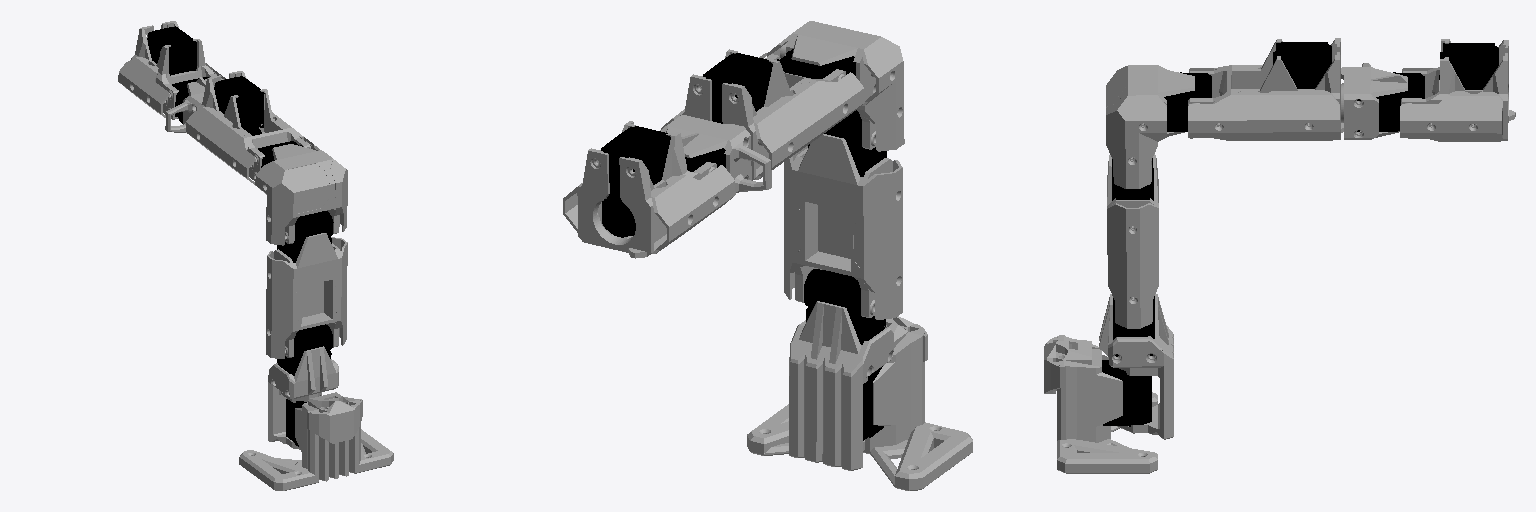
The robot description file, URDF, robot "Elrobot_leader":
<?xml version="1.0" ?>
<!-- ElRobot leader arm (https://normacore.dev/, hardware/elrobot in this repository) -->
<!-- Built from elrobot_follower.urdf: joints 1-7 and their meshes are the follower's; the gripper (Gripper_Base, ST3215_8, gear, jaws) is replaced by the leader parts mounted on the motor 7 horn: Wrist_Roll_SO101, Handle_SO101 and Trigger_SO101 (hardware/elrobot/STL/elrobot_individual_parts/elrobot_leader_parts, mm) with the trigger servo mesh from the SO101 leader (sts3215_03a_v1.stl, metres, TheRobotStudio SO-ARM100, Apache-2.0). -->
<!-- The leader parts, servo and trigger joint keep their relative placement from the SO101 leader URDF (link "gripper", joint "6"); that frame is rotated into the motor 7 frame so the horn faces coincide. The roll about the motor 7 axis was fitted to the bench pose in which the handle hangs straight down (base -Z): motors 1-8 at 51/0/48/98/45/51/13/0 % of their calibrated ranges (motor 7 at 13 % of its range). Trigger limits are the SO101 leader's: lower = trigger against the grip, upper = released. -->
<!-- rev_motor_07 keeps the follower's origin and axis but its limits span 294.6 deg (lower -3.08669, upper 2.05521): the leader wrist roll sweeps 3352 encoder steps between its mechanical stops, and the viewer maps the calibrated range onto the joint limits, so the span must match the real travel for the handle to render at the right angle across the range. -->
<robot name="Elrobot_leader">
  <material name="silver">
    <color rgba="0.700 0.700 0.700 1.000" />
  </material>
  <material name="ST3215_1_1">
    <color rgba="0.00 0.00 0.00 1.000" />
  </material>
  <material name="ST3215_2_1">
    <color rgba="0.00 0.00 0.00 1.000" />
  </material>
  <material name="ST3215_3_1">
    <color rgba="0.00 0.00 0.00 1.000" />
  </material>
  <material name="ST3215_4_1">
    <color rgba="0.00 0.00 0.00 1.000" />
  </material>
  <material name="ST3215_5_1">
    <color rgba="0.00 0.00 0.00 1.000" />
  </material>
  <material name="ST3215_6_1">
    <color rgba="0.00 0.00 0.00 1.000" />
  </material>
  <material name="ST3215_7_1">
    <color rgba="0.00 0.00 0.00 1.000" />
  </material>
  <material name="ST3215_8_1">
    <color rgba="0.00 0.00 0.00 1.000" />
  </material>
  <link name="base_link">
    <inertial>
      <origin xyz="4.1532032114359136e-10 0.013084111185471562 0.019551044495005637" rpy="0 0 0" />
      <mass value="0.06831242050694149" />
      <inertia ixx="3.6e-05" iyy="5.9e-05" izz="5.1e-05" ixy="0.0" iyz="8e-06" ixz="-0.0" />
    </inertial>
    <visual>
      <origin xyz="0 0 0" rpy="0 0 0" />
      <geometry>
        <mesh filename="assets/base_link.stl" scale="0.001 0.001 0.001" />
      </geometry>
      <material name="silver" />
    </visual>
    <collision>
      <origin xyz="0 0 0" rpy="0 0 0" />
      <geometry>
        <mesh filename="assets/base_link.stl" scale="0.001 0.001 0.001" />
      </geometry>
    </collision>
  </link>
  <link name="ST3215_1_v1_1">
    <inertial>
      <origin xyz="4.076346987608891e-06 0.022690161600370684 -0.0014235772611572647" rpy="0 0 0" />
      <mass value="0.03190666159632515" />
      <inertia ixx="8e-06" iyy="4e-06" izz="7e-06" ixy="0.0" iyz="-0.0" ixz="0.0" />
    </inertial>
    <visual>
      <origin xyz="-0.0 -0.007585 -0.0315" rpy="0 0 0" />
      <geometry>
        <mesh filename="assets/ST3215_1_v1_1.stl" scale="0.001 0.001 0.001" />
      </geometry>
      <material name="ST3215_1_1" />
    </visual>
    <collision>
      <origin xyz="-0.0 -0.007585 -0.0315" rpy="0 0 0" />
      <geometry>
        <mesh filename="assets/ST3215_1_v1_1.stl" scale="0.001 0.001 0.001" />
      </geometry>
    </collision>
  </link>
  <link name="Joint_01_1">
    <inertial>
      <origin xyz="0.00019293358229791917 0.01053544085767251 -0.002903406181002266" rpy="0 0 0" />
      <mass value="0.036024842090469696" />
      <inertia ixx="2e-05" iyy="2e-05" izz="1e-05" ixy="0.0" iyz="4e-06" ixz="-0.0" />
    </inertial>
    <visual>
      <origin xyz="-0.0 -0.042489 -0.049005" rpy="0 0 0" />
      <geometry>
        <mesh filename="assets/Joint_01_1.stl" scale="0.001 0.001 0.001" />
      </geometry>
      <material name="silver" />
    </visual>
    <collision>
      <origin xyz="-0.0 -0.042489 -0.049005" rpy="0 0 0" />
      <geometry>
        <mesh filename="assets/Joint_01_1.stl" scale="0.001 0.001 0.001" />
      </geometry>
    </collision>
  </link>
  <link name="ST3215_2_v1_1">
    <inertial>
      <origin xyz="-0.0014235768458915805 -0.00019407288276004214 0.02268943356342234" rpy="0 0 0" />
      <mass value="0.03190666159632515" />
      <inertia ixx="7e-06" iyy="8e-06" izz="4e-06" ixy="0.0" iyz="0.0" ixz="-0.0" />
    </inertial>
    <visual>
      <origin xyz="-0.000625 -0.042431 -0.055705" rpy="0 0 0" />
      <geometry>
        <mesh filename="assets/ST3215_2_v1_1.stl" scale="0.001 0.001 0.001" />
      </geometry>
      <material name="ST3215_2_1" />
    </visual>
    <collision>
      <origin xyz="-0.000625 -0.042431 -0.055705" rpy="0 0 0" />
      <geometry>
        <mesh filename="assets/ST3215_2_v1_1.stl" scale="0.001 0.001 0.001" />
      </geometry>
    </collision>
  </link>
  <link name="Joint_02_1">
    <inertial>
      <origin xyz="0.020187292657891796 -0.0003607149418271213 0.04048886553547183" rpy="0 0 0" />
      <mass value="0.04313419527395414" />
      <inertia ixx="2.4e-05" iyy="3.4e-05" izz="1.7e-05" ixy="-0.0" iyz="0.0" ixz="0.0" />
    </inertial>
    <visual>
      <origin xyz="0.019668 -0.042123 -0.090938" rpy="0 0 0" />
      <geometry>
        <mesh filename="assets/Joint_02_1.stl" scale="0.001 0.001 0.001" />
      </geometry>
      <material name="silver" />
    </visual>
    <collision>
      <origin xyz="0.019668 -0.042123 -0.090938" rpy="0 0 0" />
      <geometry>
        <mesh filename="assets/Joint_02_1.stl" scale="0.001 0.001 0.001" />
      </geometry>
    </collision>
  </link>
  <link name="ST3215_3_v1_1">
    <inertial>
      <origin xyz="-0.0012258665484379326 -0.00019383890721715036 0.02270059947453923" rpy="0 0 0" />
      <mass value="0.03190666159632515" />
      <inertia ixx="7e-06" iyy="8e-06" izz="4e-06" ixy="0.0" iyz="0.0" ixz="-0.0" />
    </inertial>
    <visual>
      <origin xyz="-0.000195 -0.041636 -0.146765" rpy="0 0 0" />
      <geometry>
        <mesh filename="assets/ST3215_3_v1_1.stl" scale="0.001 0.001 0.001" />
      </geometry>
      <material name="ST3215_3_1" />
    </visual>
    <collision>
      <origin xyz="-0.000195 -0.041636 -0.146765" rpy="0 0 0" />
      <geometry>
        <mesh filename="assets/ST3215_3_v1_1.stl" scale="0.001 0.001 0.001" />
      </geometry>
    </collision>
  </link>
  <link name="Joint_03_v1_1">
    <inertial>
      <origin xyz="0.021383489206350224 0.0025973738142313213 0.028573272567347596" rpy="0 0 0" />
      <mass value="0.03705485612134295" />
      <inertia ixx="1.1e-05" iyy="1.8e-05" izz="1.5e-05" ixy="0.0" iyz="-1e-06" ixz="-0.0" />
    </inertial>
    <visual>
      <origin xyz="0.01979 -0.041327 -0.182173" rpy="0 0 0" />
      <geometry>
        <mesh filename="assets/Joint_03_v1_1.stl" scale="0.001 0.001 0.001" />
      </geometry>
      <material name="silver" />
    </visual>
    <collision>
      <origin xyz="0.01979 -0.041327 -0.182173" rpy="0 0 0" />
      <geometry>
        <mesh filename="assets/Joint_03_v1_1.stl" scale="0.001 0.001 0.001" />
      </geometry>
    </collision>
  </link>
  <link name="ST3215_4_v1_1">
    <inertial>
      <origin xyz="-0.0014236012890871546 0.022688801414757966 0.00021876985314867037" rpy="0 0 0" />
      <mass value="0.03190666159632515" />
      <inertia ixx="7e-06" iyy="4e-06" izz="8e-06" ixy="-0.0" iyz="-0.0" ixz="0.0" />
    </inertial>
    <visual>
      <origin xyz="-0.001473 -0.04326 -0.218576" rpy="0 0 0" />
      <geometry>
        <mesh filename="assets/ST3215_4_v1_1.stl" scale="0.001 0.001 0.001" />
      </geometry>
      <material name="ST3215_4_1" />
    </visual>
    <collision>
      <origin xyz="-0.001473 -0.04326 -0.218576" rpy="0 0 0" />
      <geometry>
        <mesh filename="assets/ST3215_4_v1_1.stl" scale="0.001 0.001 0.001" />
      </geometry>
    </collision>
  </link>
  <link name="Joint_04_v1_1">
    <inertial>
      <origin xyz="0.02041469568271767 0.04634775018812741 0.0004733773672222219" rpy="0 0 0" />
      <mass value="0.04910540016805011" />
      <inertia ixx="3.7e-05" iyy="2.1e-05" izz="4.7e-05" ixy="-0.0" iyz="-1e-06" ixz="0.0" />
    </inertial>
    <visual>
      <origin xyz="0.018817 -0.078489 -0.219238" rpy="0 0 0" />
      <geometry>
        <mesh filename="assets/Joint_04_v1_1.stl" scale="0.001 0.001 0.001" />
      </geometry>
      <material name="silver" />
    </visual>
    <collision>
      <origin xyz="0.018817 -0.078489 -0.219238" rpy="0 0 0" />
      <geometry>
        <mesh filename="assets/Joint_04_v1_1.stl" scale="0.001 0.001 0.001" />
      </geometry>
    </collision>
  </link>
  <link name="ST3215_5_v1_1">
    <inertial>
      <origin xyz="0.00038301708111886123 -0.001621005306100043 0.022431224025462493" rpy="0 0 0" />
      <mass value="0.03190666159632515" />
      <inertia ixx="8e-06" iyy="7e-06" izz="4e-06" ixy="-0.0" iyz="-0.0" ixz="-0.0" />
    </inertial>
    <visual>
      <origin xyz="-0.001574 -0.144152 -0.209203" rpy="0 0 0" />
      <geometry>
        <mesh filename="assets/ST3215_5_v1_1.stl" scale="0.001 0.001 0.001" />
      </geometry>
      <material name="ST3215_5_1" />
    </visual>
    <collision>
      <origin xyz="-0.001574 -0.144152 -0.209203" rpy="0 0 0" />
      <geometry>
        <mesh filename="assets/ST3215_5_v1_1.stl" scale="0.001 0.001 0.001" />
      </geometry>
    </collision>
  </link>
  <link name="Joint_05_v1_1">
    <inertial>
      <origin xyz="-0.0014511731912585726 0.014886171505002432 0.00023918947669937518" rpy="0 0 0" />
      <mass value="0.015030395597527186" />
      <inertia ixx="3e-06" iyy="5e-06" izz="5e-06" ixy="0.0" iyz="-0.0" ixz="0.0" />
    </inertial>
    <visual>
      <origin xyz="-0.001897 -0.161352 -0.219254" rpy="0 0 0" />
      <geometry>
        <mesh filename="assets/Joint_05_v1_1.stl" scale="0.001 0.001 0.001" />
      </geometry>
      <material name="silver" />
    </visual>
    <collision>
      <origin xyz="-0.001897 -0.161352 -0.219254" rpy="0 0 0" />
      <geometry>
        <mesh filename="assets/Joint_05_v1_1.stl" scale="0.001 0.001 0.001" />
      </geometry>
    </collision>
  </link>
  <link name="ST3215_6_v1_1">
    <inertial>
      <origin xyz="-0.0012292541520895308 0.02270120751988408 1.7775252667578956e-05" rpy="0 0 0" />
      <mass value="0.03190666159632515" />
      <inertia ixx="7e-06" iyy="4e-06" izz="8e-06" ixy="-0.0" iyz="-0.0" ixz="0.0" />
    </inertial>
    <visual>
      <origin xyz="-0.001962 -0.168852 -0.219253" rpy="0 0 0" />
      <geometry>
        <mesh filename="assets/ST3215_6_v1_1.stl" scale="0.001 0.001 0.001" />
      </geometry>
      <material name="ST3215_6_1" />
    </visual>
    <collision>
      <origin xyz="-0.001962 -0.168852 -0.219253" rpy="0 0 0" />
      <geometry>
        <mesh filename="assets/ST3215_6_v1_1.stl" scale="0.001 0.001 0.001" />
      </geometry>
    </collision>
  </link>
  <link name="Joint_06_v1_1">
    <inertial>
      <origin xyz="0.02043403340818753 0.03197650673728944 0.0003564813588719795" rpy="0 0 0" />
      <mass value="0.03727709058376948" />
      <inertia ixx="1.6e-05" iyy="1.6e-05" izz="2.2e-05" ixy="0.0" iyz="-0.0" ixz="0.0" />
    </inertial>
    <visual>
      <origin xyz="0.018026 -0.204259 -0.219604" rpy="0 0 0" />
      <geometry>
        <mesh filename="assets/Joint_06_v1_1.stl" scale="0.001 0.001 0.001" />
      </geometry>
      <material name="silver" />
    </visual>
    <collision>
      <origin xyz="0.018026 -0.204259 -0.219604" rpy="0 0 0" />
      <geometry>
        <mesh filename="assets/Joint_06_v1_1.stl" scale="0.001 0.001 0.001" />
      </geometry>
    </collision>
  </link>
  <link name="ST3215_7_v1_1">
    <inertial>
      <origin xyz="0.00037315403427122225 -0.0014257132266914385 0.022445026183495337" rpy="0 0 0" />
      <mass value="0.03190666159632515" />
      <inertia ixx="8e-06" iyy="7e-06" izz="4e-06" ixy="-0.0" iyz="-0.0" ixz="-0.0" />
    </inertial>
    <visual>
      <origin xyz="-0.002452 -0.242282 -0.208993" rpy="0 0 0" />
      <geometry>
        <mesh filename="assets/ST3215_7_v1_1.stl" scale="0.001 0.001 0.001" />
      </geometry>
      <material name="ST3215_7_1" />
    </visual>
    <collision>
      <origin xyz="-0.002452 -0.242282 -0.208993" rpy="0 0 0" />
      <geometry>
        <mesh filename="assets/ST3215_7_v1_1.stl" scale="0.001 0.001 0.001" />
      </geometry>
    </collision>
  </link>
  <link name="Wrist_Roll_SO101_1">
    <inertial>
      <origin xyz="0.000470466 0.0251787 -0.000550247" rpy="0 0 0" />
      <mass value="0.087" />
      <inertia ixx="2.75087e-05" ixy="-3.35241e-07" ixz="-5.7352e-06" iyy="4.33657e-05" iyz="-5.17847e-08" izz="3.45059e-05" />
    </inertial>
    <visual>
      <origin xyz="-0.000178167 -0.000945431 0.00015484" rpy="1.58427 0.836122 3.13444" />
      <geometry>
        <mesh filename="assets/Wrist_Roll_SO101.stl" scale="0.001 0.001 0.001" />
      </geometry>
      <material name="silver" />
    </visual>
    <visual>
      <origin xyz="0 0 0" rpy="1.58427 0.836122 3.13444" />
      <geometry>
        <mesh filename="assets/Handle_SO101.stl" scale="0.001 0.001 0.001" />
      </geometry>
      <material name="silver" />
    </visual>
    <visual>
      <origin xyz="-0.00468617 0.0234306 -0.00599209" rpy="-3.12812 0.836122 3.13444" />
      <geometry>
        <mesh filename="assets/ST3215_8_leader_v1.stl" scale="1 1 1" />
      </geometry>
      <material name="ST3215_8_1" />
    </visual>
  </link>
  <link name="Trigger_SO101_1">
    <inertial>
      <origin xyz="-0.00157495 -0.0300244 0.0192755" rpy="0 0 0" />
      <mass value="0.012" />
      <inertia ixx="6.61427e-06" ixy="-3.19807e-07" ixz="-5.90717e-09" iyy="1.89032e-06" iyz="-1.09945e-07" izz="5.28738e-06" />
    </inertial>
    <visual>
      <origin xyz="0 0 -0.0189" rpy="3.14159 0 2.6" />
      <geometry>
        <mesh filename="assets/Trigger_SO101.stl" scale="0.001 0.001 0.001" />
      </geometry>
      <material name="silver" />
    </visual>
  </link>
  <joint name="Rigid 1" type="fixed">
    <origin xyz="0.0 0.007585 0.0315" rpy="0 0 0" />
    <parent link="base_link" />
    <child link="ST3215_1_v1_1" />
  </joint>
  <joint name="rev_motor_01" type="revolute">
    <origin xyz="0.0 0.034904 0.017505" rpy="0 0 0" />
    <parent link="ST3215_1_v1_1" />
    <child link="Joint_01_1" />
    <axis xyz="0.0 -0.008727 0.999962" />
    <limit upper="1.5509" lower="-1.5509" effort="2.94" velocity="4.71" />
  </joint>
  <joint name="Rigid 3" type="fixed">
    <origin xyz="0.000625 -5.8e-05 0.0067" rpy="0 0 0" />
    <parent link="Joint_01_1" />
    <child link="ST3215_2_v1_1" />
  </joint>
  <joint name="rev_motor_02" type="revolute">
    <origin xyz="-0.020293 -0.000308 0.035233" rpy="0 0 0" />
    <parent link="ST3215_2_v1_1" />
    <child link="Joint_02_1" />
    <axis xyz="-0.999962 -7.6e-05 0.008726" />
    <limit upper="1.6122" lower="-1.6122" effort="2.94" velocity="4.71" />
  </joint>
  <joint name="Rigid 7" type="fixed">
    <origin xyz="0.019863 -0.000487 0.055827" rpy="0 0 0" />
    <parent link="Joint_02_1" />
    <child link="ST3215_3_v1_1" />
  </joint>
  <joint name="rev_motor_03" type="revolute">
    <origin xyz="-0.019985 -0.000309 0.035408" rpy="0 0 0" />
    <parent link="ST3215_3_v1_1" />
    <child link="Joint_03_v1_1" />
    <axis xyz="-0.999848 -0.000152 0.017452" />
    <limit upper="1.7610" lower="-1.7610" effort="2.94" velocity="4.71" />
  </joint>
  <joint name="Rigid 9" type="fixed">
    <origin xyz="0.021263 0.001933 0.036403" rpy="0 0 0" />
    <parent link="Joint_03_v1_1" />
    <child link="ST3215_4_v1_1" />
  </joint>
  <joint name="rev_motor_04" type="revolute">
    <origin xyz="-0.02029 0.035229 0.000662" rpy="0 0 0" />
    <parent link="ST3215_4_v1_1" />
    <child link="Joint_04_v1_1" />
    <axis xyz="-0.99981 0.008574 0.017527" />
    <limit upper="1.7533" lower="-1.7533" effort="2.94" velocity="4.71" />
  </joint>
  <joint name="Rigid 11" type="fixed">
    <origin xyz="0.020391 0.065663 -0.010035" rpy="0 0 0" />
    <parent link="Joint_04_v1_1" />
    <child link="ST3215_5_v1_1" />
  </joint>
  <joint name="rev_motor_05" type="revolute">
    <origin xyz="0.000323 0.0172 0.010051" rpy="0 0 0" />
    <parent link="ST3215_5_v1_1" />
    <child link="Joint_05_v1_1" />
    <axis xyz="-0.008573 -0.999963 0.000151" />
    <limit upper="3.252" lower="-2.62" effort="2.94" velocity="4.71" />
  </joint>
  <joint name="Rigid 13" type="fixed">
    <origin xyz="6.5e-05 0.0075 -1e-06" rpy="0 0 0" />
    <parent link="Joint_05_v1_1" />
    <child link="ST3215_6_v1_1" />
  </joint>
  <joint name="rev_motor_06" type="revolute">
    <origin xyz="-0.019988 0.035407 0.000351" rpy="0 0 0" />
    <parent link="ST3215_6_v1_1" />
    <child link="Joint_06_v1_1" />
    <axis xyz="-0.999697 0.0173 0.017525" />
    <limit upper="1.7641" lower="-1.3775" effort="2.94" velocity="4.71" />
  </joint>
  <joint name="Rigid 15" type="fixed">
    <origin xyz="0.020478 0.038023 -0.010611" rpy="0 0 0" />
    <parent link="Joint_06_v1_1" />
    <child link="ST3215_7_v1_1" />
  </joint>
  <joint name="rev_motor_07" type="revolute">
    <origin xyz="0.000473 0.017284 0.009899" rpy="0 0 0" />
    <parent link="ST3215_7_v1_1" />
    <child link="Wrist_Roll_SO101_1" />
    <axis xyz="-0.017144 -0.999812 0.009029" />
    <limit upper="2.05521" lower="-3.08669" effort="2.94" velocity="4.71" />
  </joint>
  <joint name="trigger" type="revolute">
    <origin xyz="-0.013733 0.0235074 -0.0146644" rpy="0.0134696 0.836122 3.13444" />
    <parent link="Wrist_Roll_SO101_1" />
    <child link="Trigger_SO101_1" />
    <axis xyz="0 0 1" />
    <limit upper="1.74533" lower="-0.174533" effort="2.94" velocity="4.71" />
  </joint>
</robot>

--- Facts derived from the render (not from the file) ---
Views: 3 orthographic renders of the robot side by side, from view 1: azimuth 30°, elevation 25°; view 2: azimuth 150°, elevation 25°; view 3: azimuth 270°, elevation 25°.
Model Elrobot_leader with 16 links and 15 joints (8 revolute, 7 fixed), rooted at base_link, posed every joint at zero.
Visible links, largest first — view 1: Joint_02_1, base_link, Joint_03_v1_1, Joint_04_v1_1, Joint_06_v1_1, Joint_01_1, ST3215_5_v1_1, ST3215_7_v1_1, ST3215_2_v1_1, ST3215_3_v1_1, Joint_05_v1_1; view 2: Joint_02_1, Joint_01_1, base_link, Joint_06_v1_1, Joint_04_v1_1, Joint_03_v1_1, Joint_05_v1_1, ST3215_7_v1_1, ST3215_2_v1_1, ST3215_5_v1_1, ST3215_3_v1_1, ST3215_4_v1_1 (+1 smaller); view 3: Joint_04_v1_1, base_link, Joint_06_v1_1, Joint_03_v1_1, Joint_02_1, Joint_01_1, Joint_05_v1_1, ST3215_5_v1_1, ST3215_7_v1_1, ST3215_1_v1_1, ST3215_6_v1_1, ST3215_4_v1_1 (+2 smaller).
Link boxes in pixels (x1,y1,x2,y2): Joint_02_1: [266, 233, 347, 358]; base_link: [239, 392, 393, 490]; Joint_03_v1_1: [255, 144, 347, 245]; Joint_04_v1_1: [186, 71, 319, 184]; Joint_06_v1_1: [118, 21, 225, 119]; Joint_01_1: [268, 346, 338, 449]; ST3215_5_v1_1: [214, 76, 264, 135]; ST3215_7_v1_1: [147, 26, 196, 75]; ST3215_2_v1_1: [277, 324, 332, 375]; ST3215_3_v1_1: [277, 211, 333, 262]; Joint_05_v1_1: [165, 77, 213, 133]; Joint_02_1: [784, 134, 902, 319]; Joint_01_1: [789, 301, 893, 470]; base_link: [747, 316, 972, 490]; Joint_06_v1_1: [563, 121, 735, 258]; Joint_04_v1_1: [661, 49, 864, 180]; Joint_03_v1_1: [767, 21, 904, 151]; Joint_05_v1_1: [660, 115, 771, 192]; ST3215_7_v1_1: [601, 126, 670, 237]; ST3215_2_v1_1: [804, 269, 885, 344]; ST3215_5_v1_1: [703, 53, 772, 123]; ST3215_3_v1_1: [808, 110, 886, 176]; ST3215_4_v1_1: [777, 49, 855, 78]; Joint_04_v1_1: [1188, 38, 1343, 140]; base_link: [1044, 335, 1157, 473]; Joint_06_v1_1: [1400, 39, 1515, 141]; Joint_03_v1_1: [1106, 65, 1194, 188]; Joint_02_1: [1107, 154, 1158, 328]; Joint_01_1: [1099, 294, 1173, 439]; Joint_05_v1_1: [1341, 63, 1407, 139]; ST3215_5_v1_1: [1273, 42, 1331, 88]; ST3215_7_v1_1: [1439, 43, 1498, 89]; ST3215_1_v1_1: [1102, 360, 1151, 426]; ST3215_6_v1_1: [1357, 72, 1424, 131]; ST3215_4_v1_1: [1164, 72, 1211, 131].
Size in the robot's own frame: 0.1 by 0.2781 by 0.2551 metres.
Meshes: 18 distinct files referenced, 14 mesh visuals loaded (14 binary STL); not drawn: 4 (reference not matched to a file when rendering).
